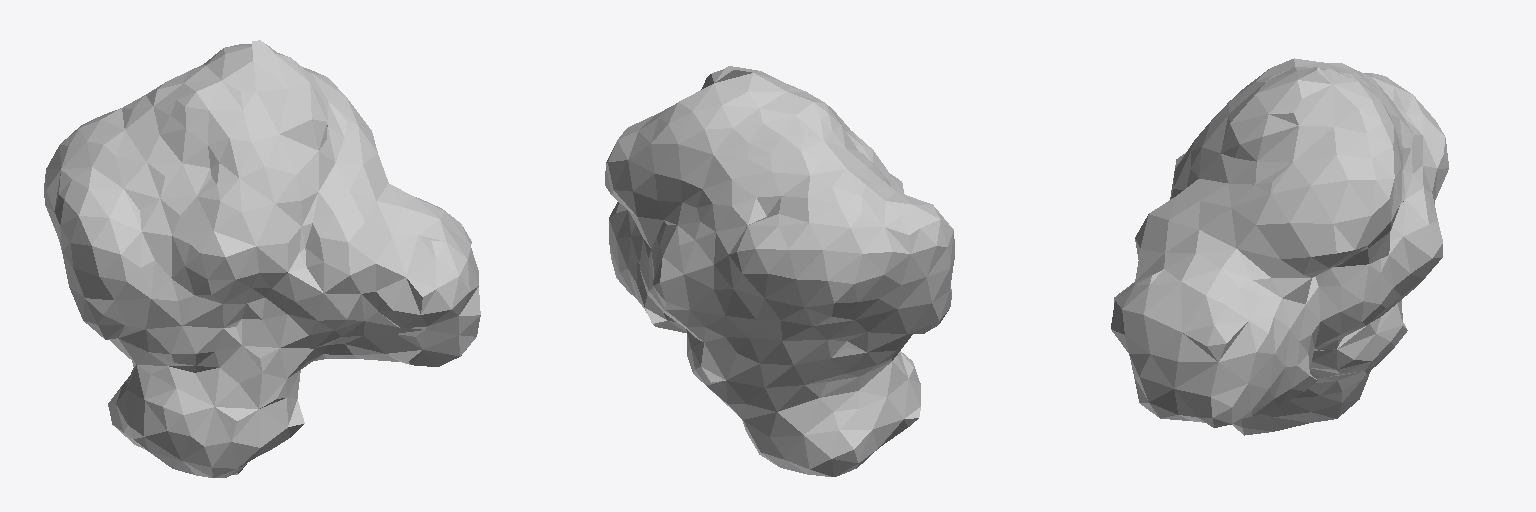
File: protein_name3.obj
3 views of the same model, side by side, from view 1: azimuth 30°, elevation 25°; view 2: azimuth 150°, elevation 25°; view 3: azimuth 270°, elevation 25° (orthographic).
Bounding box in the file's own units: 70.19 × 72.5 × 56.45.